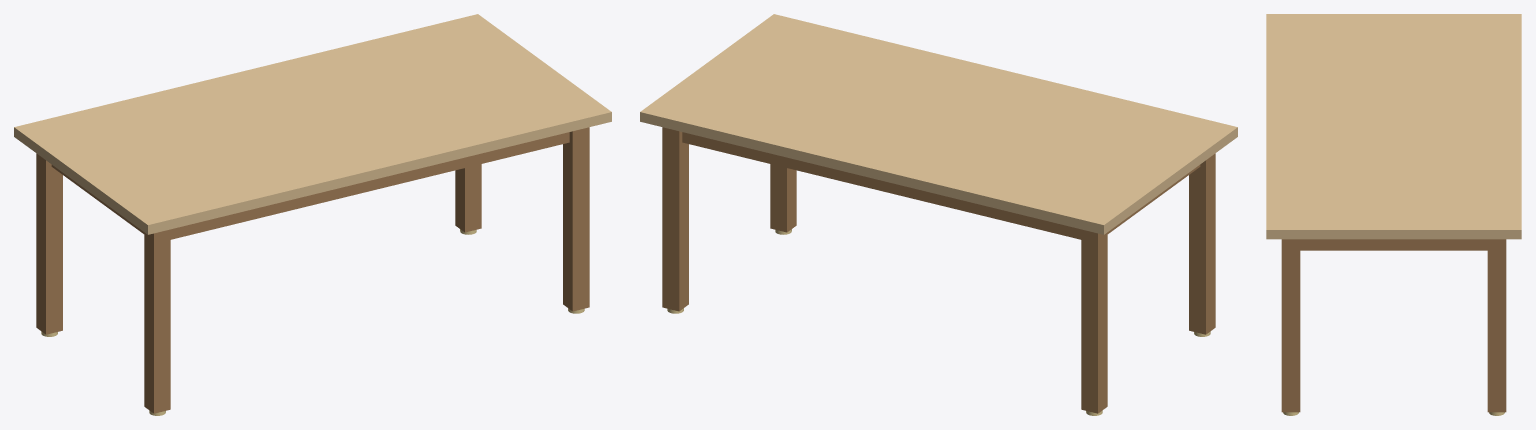
File: oak-dining-table.glb
3 views of the same model, side by side, from view 1: azimuth 30°, elevation 25°; view 2: azimuth 150°, elevation 25°; view 3: azimuth 270°, elevation 25° (orthographic). The views are drawn at different scales.
Parts seen in each view (by area): view 1: Tabletop, Leg Front Left, Leg Front Right, Leg Back Left, Apron Front, Leg Back Right; view 2: Tabletop, Leg Back Left, Leg Back Right, Leg Front Left, Apron Back, Leg Front Right; view 3: Tabletop, Leg Front Right, Leg Back Right, Apron Right.
Part boxes in pixels (x1,y1,x2,y2): Tabletop: (14,14,611,234); Leg Front Left: (144,229,170,413); Leg Front Right: (563,127,589,311); Leg Back Left: (36,153,62,334); Apron Front: (170,132,569,239); Leg Back Right: (455,164,481,232); Tabletop: (640,14,1237,234); Leg Back Left: (1081,229,1107,413); Leg Back Right: (662,127,688,311); Leg Front Left: (1189,153,1215,334); Apron Back: (682,132,1081,239); Leg Front Right: (770,164,796,232); Tabletop: (1266,14,1521,239); Leg Front Right: (1281,239,1300,412); Leg Back Right: (1487,239,1506,412); Apron Right: (1300,239,1487,250).
Size of the model in its own units: 1.8 by 0.75 by 0.9.
